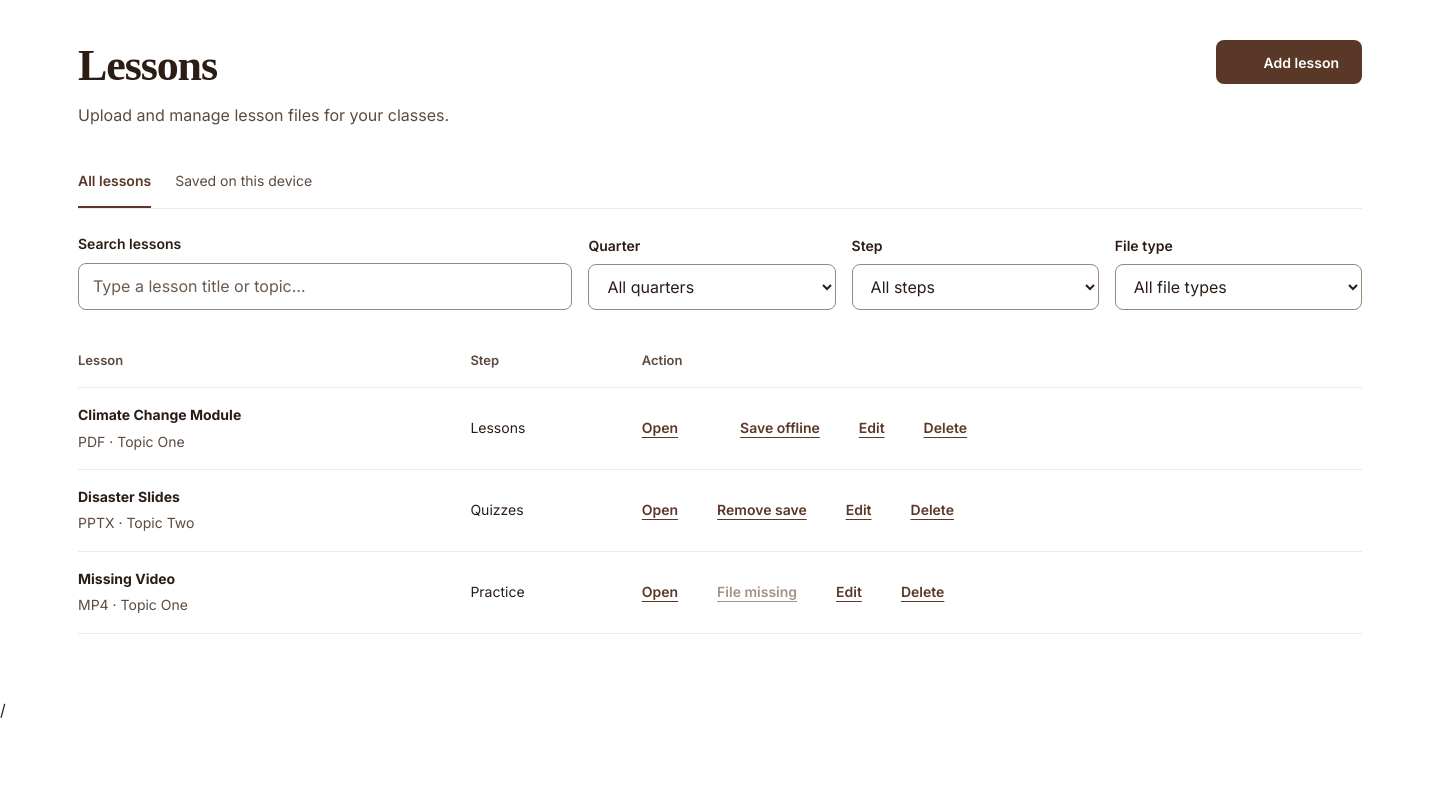
it: MaterialsHub (teacher) › adds a lesson from a link
The image size is (1440, 810).
expect the text "Climate Change Module" is shown: met, box [78, 406, 241, 423]
Click the button "Add lesson". click: (1289, 62)
box: [1216, 40, 1362, 84]
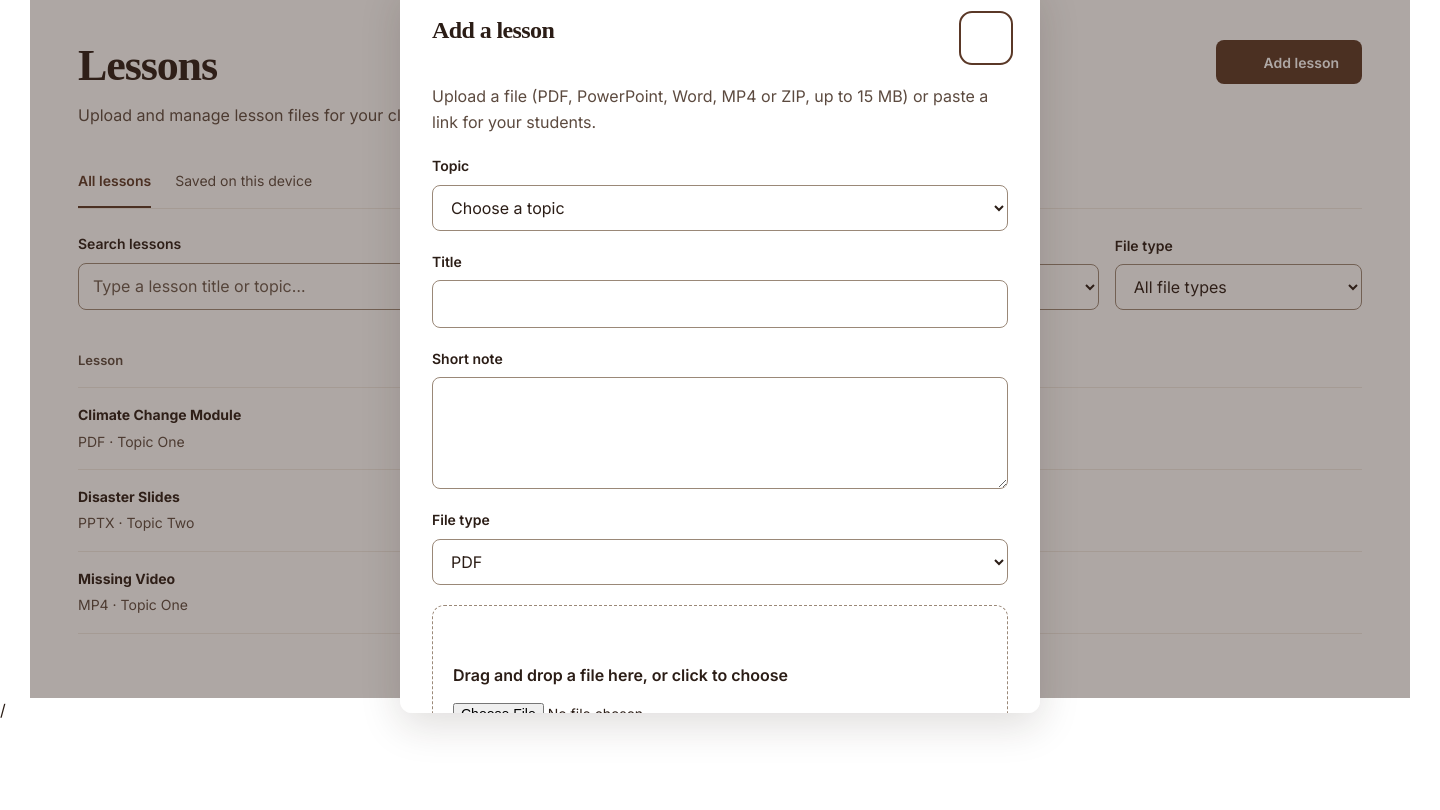
Select "AP10-2 · Desc two" in the dropdown labelled "Topic". click: (720, 208)
box: [432, 185, 1008, 231]
Type "New Reading" into the field labelled "Title". click: (720, 304)
box: [432, 280, 1008, 328]
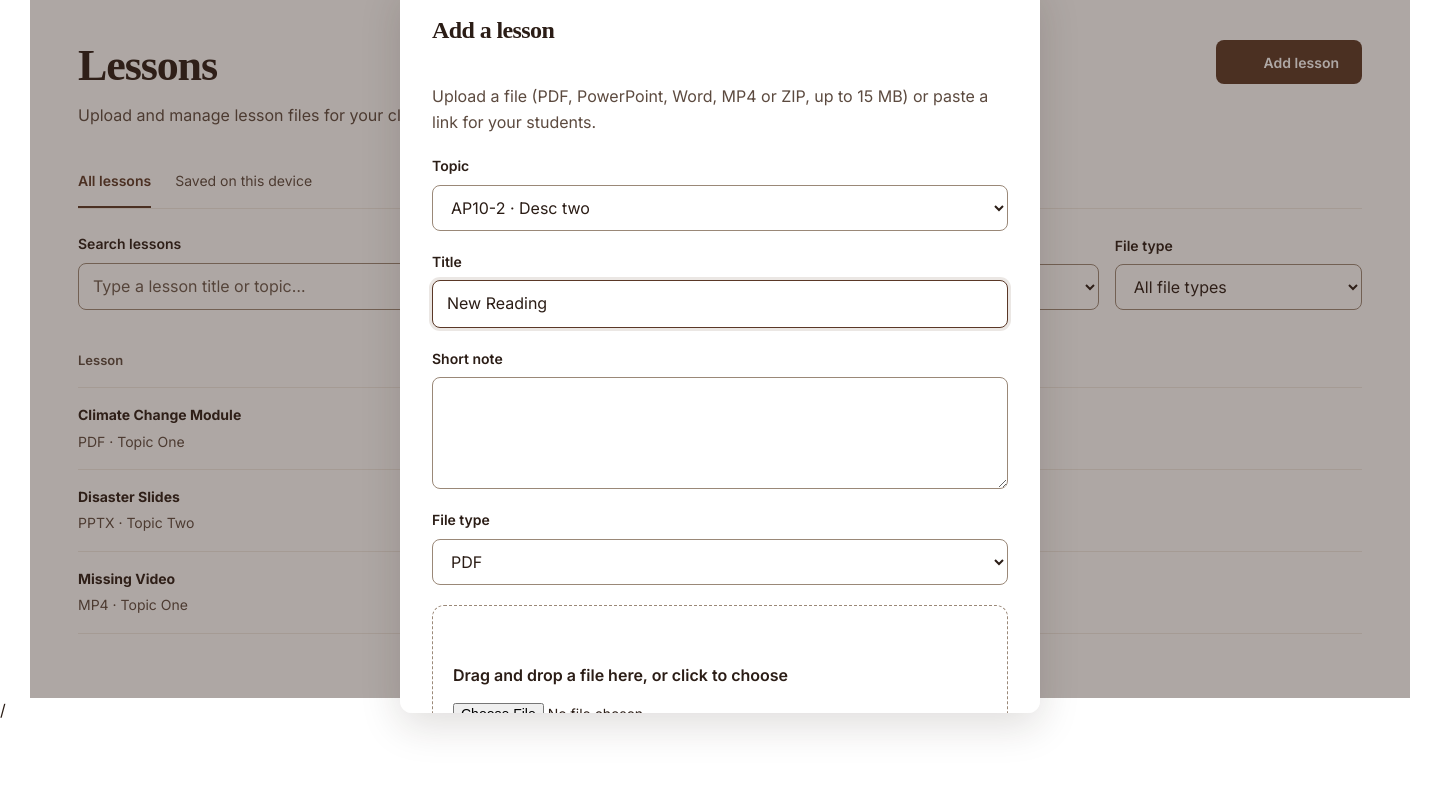
Type "Read before class" into the text box labelled "Short note". click: (720, 433)
box: [432, 377, 1008, 489]
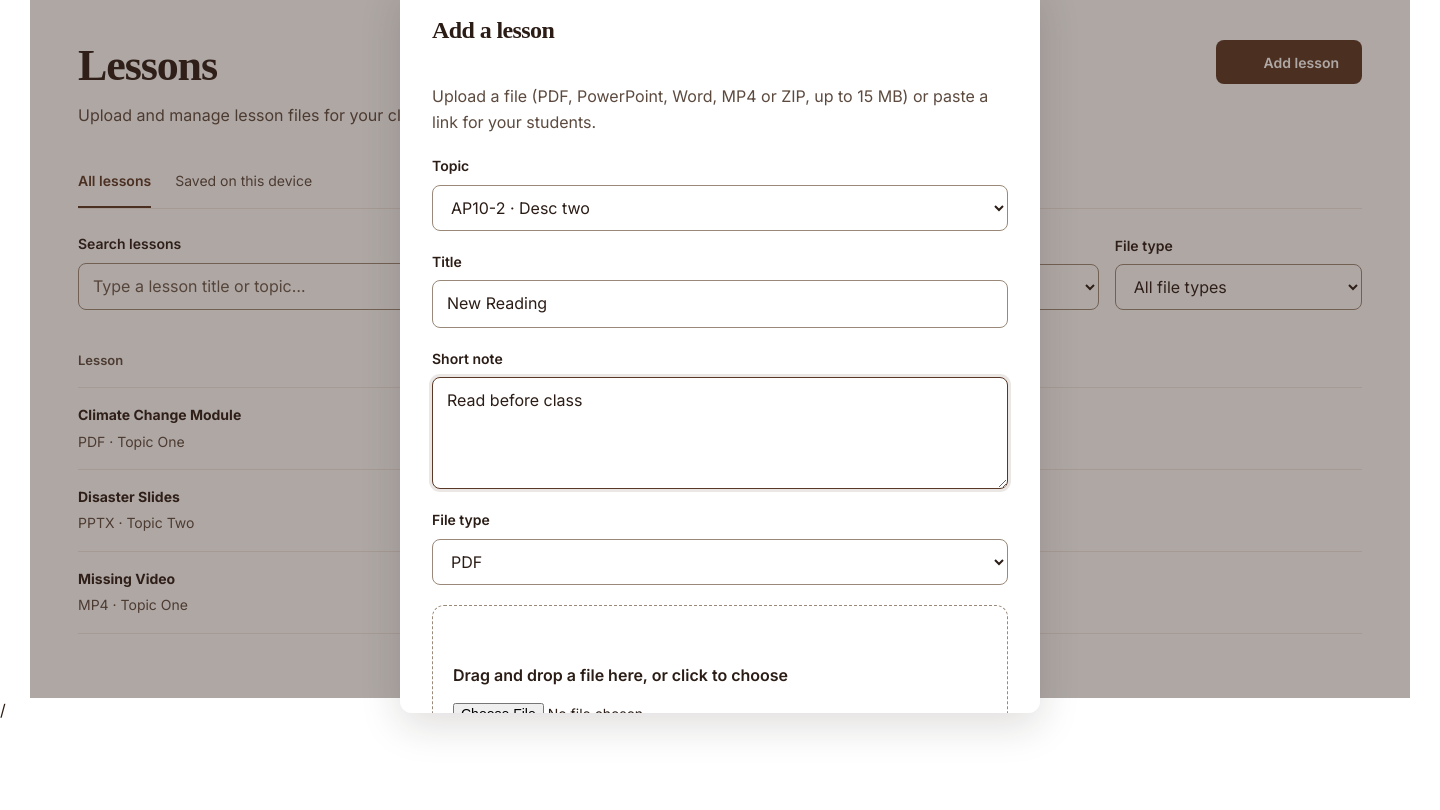
Select "DOCX" in the dropdown labelled "File type". click: (720, 562)
box: [432, 539, 1008, 585]
(page scrolled)
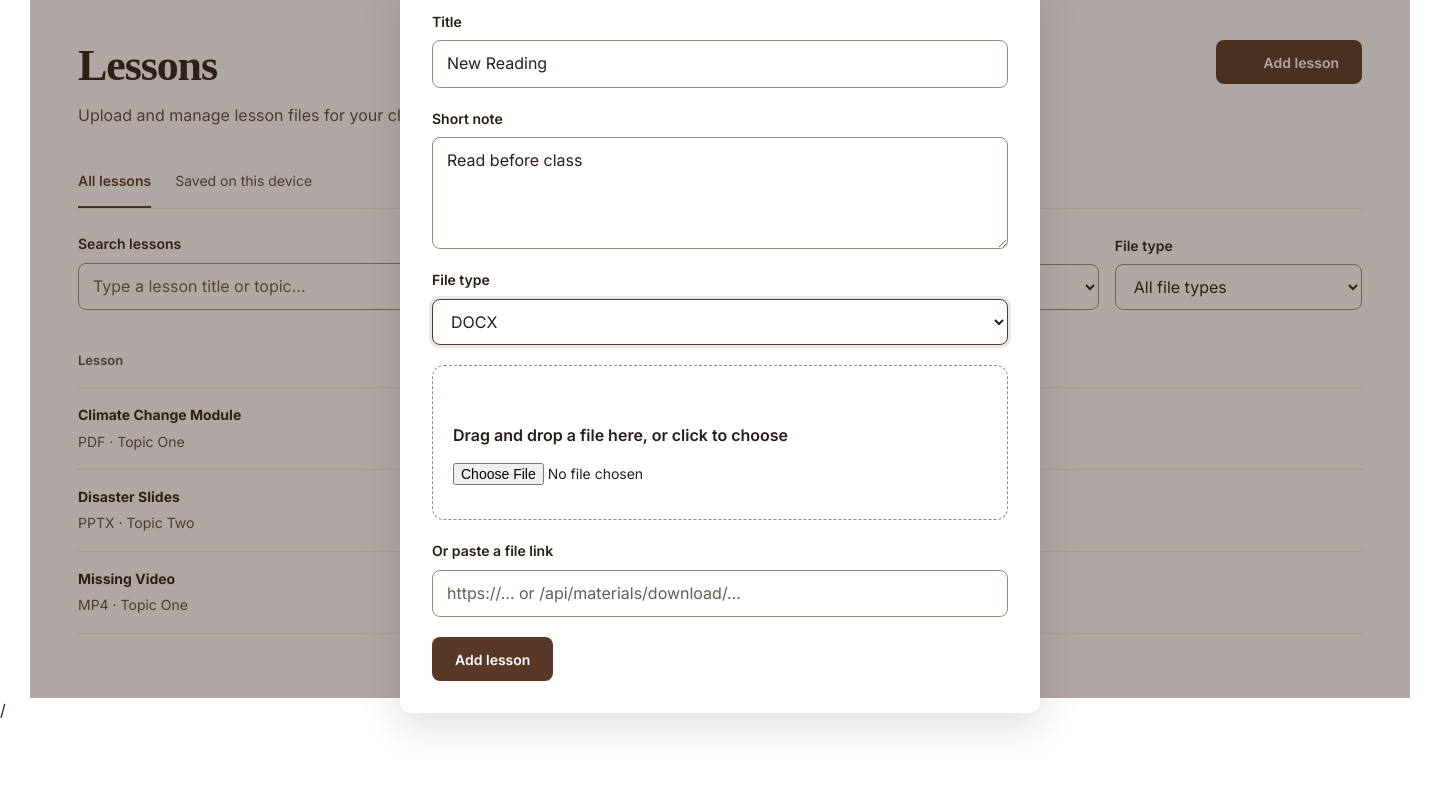
Type "https://example.com/r.docx" into the field labelled "Or paste a file link". click: (720, 593)
box: [432, 570, 1008, 617]
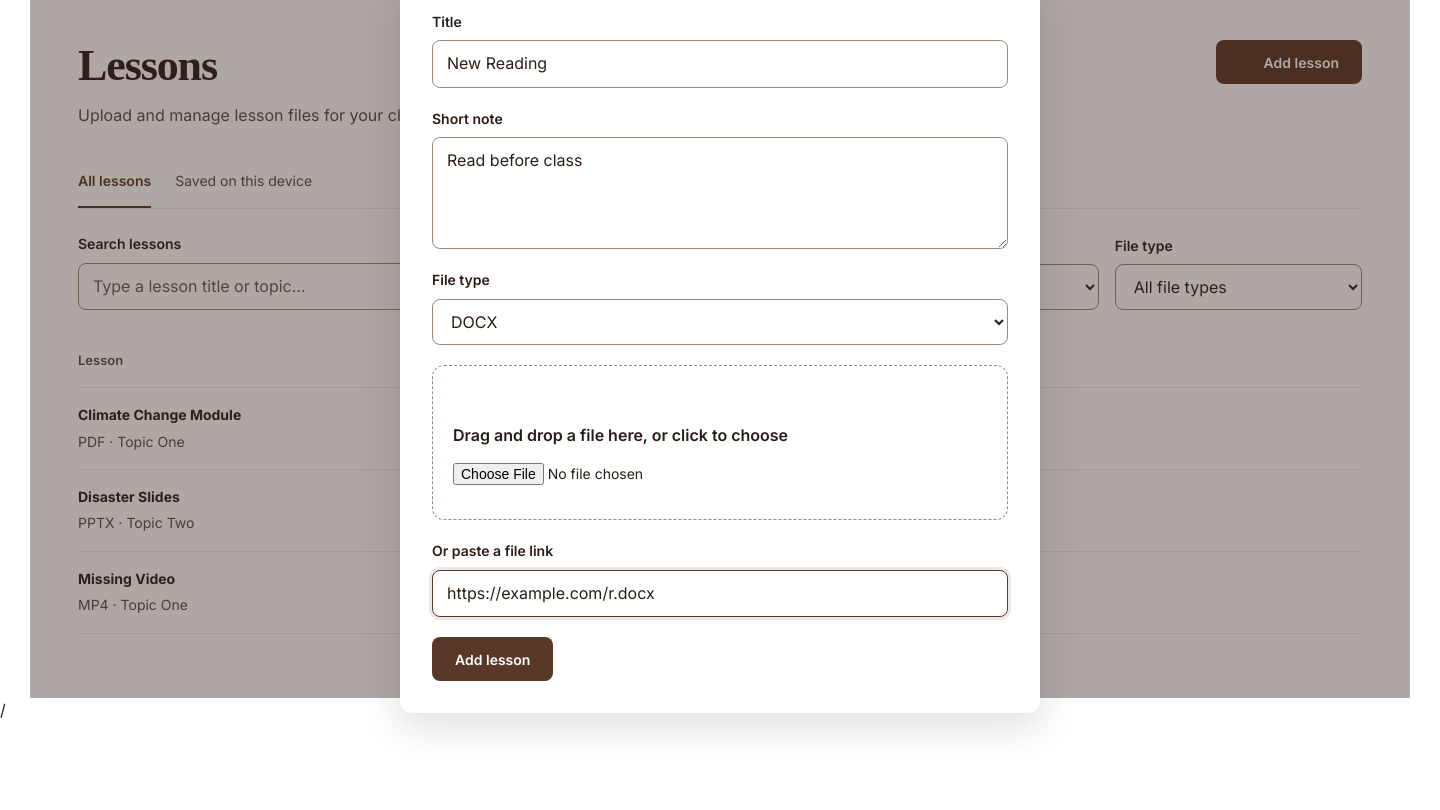
Click the button "Add lesson". click: (493, 659)
box: [432, 637, 553, 681]
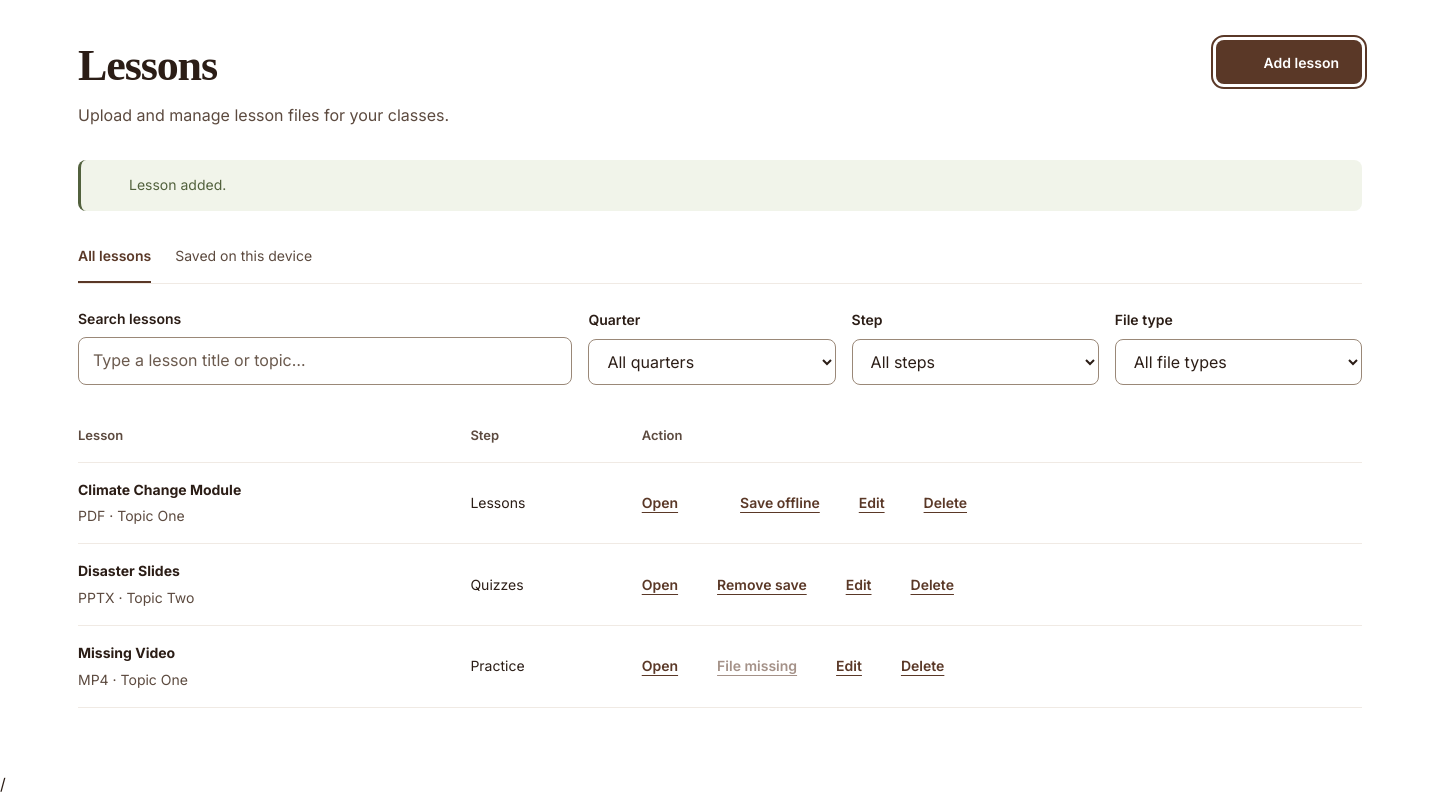
expect the text "Lesson added." is shown: met, box [129, 174, 226, 197]
